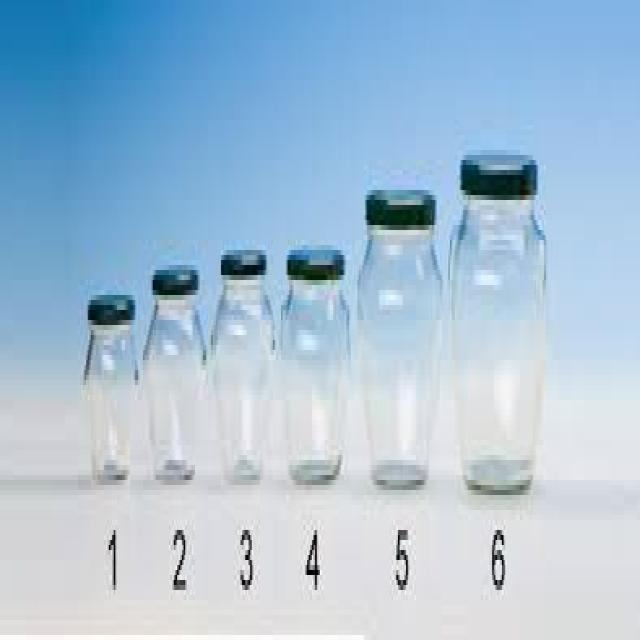glass: (450, 190, 544, 490), (356, 220, 442, 480), (278, 275, 349, 480), (208, 275, 274, 475), (140, 295, 205, 480), (81, 325, 138, 475)
metal: (363, 185, 436, 230), (458, 155, 536, 190), (286, 235, 343, 270), (218, 245, 265, 280), (86, 290, 133, 325), (150, 260, 198, 290)
